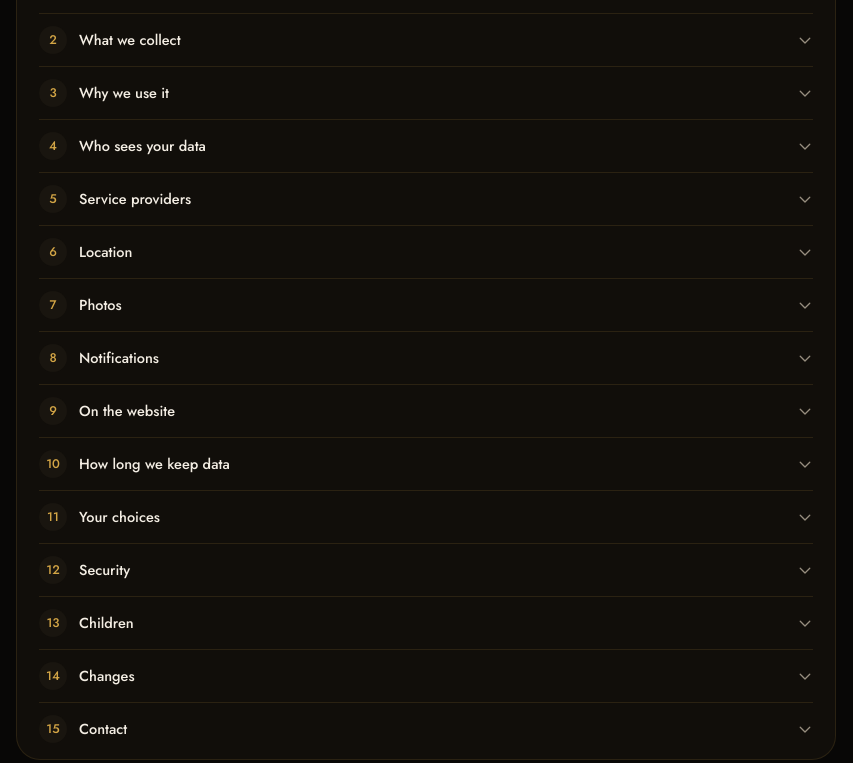
Terms and Privacy › folds each clause under its heading: the first open, the others on demand
(page scrolled)
What coordinates should you click on to do the following:
click the button "How long we keep data"
I would click on:
 (154, 463)
Its box is [39,438,813,490].
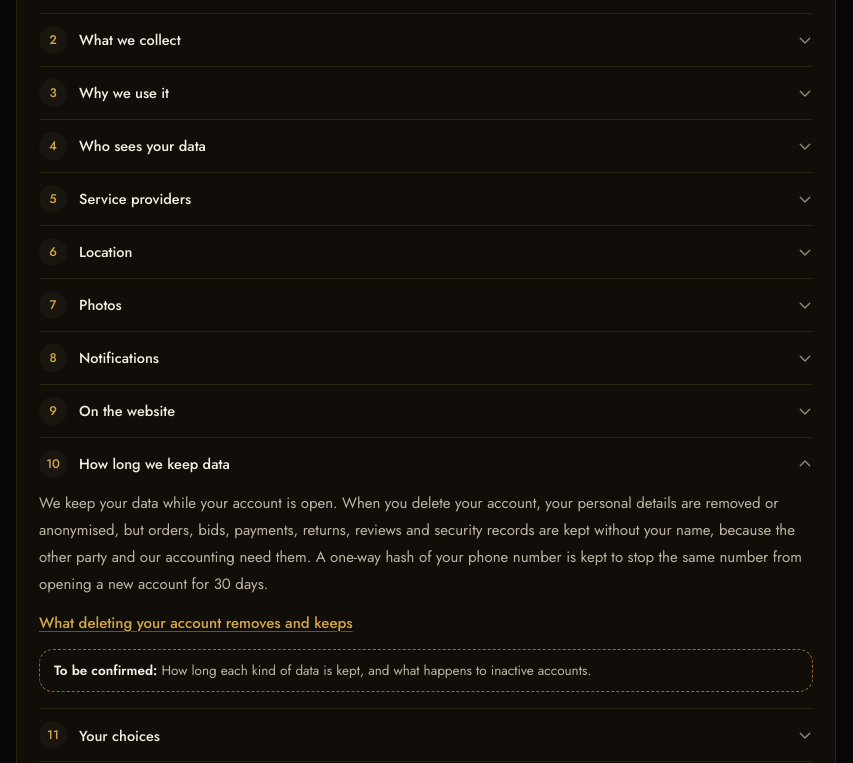
Result: the button "How long we keep data" is expanded at [39,438,813,490]
